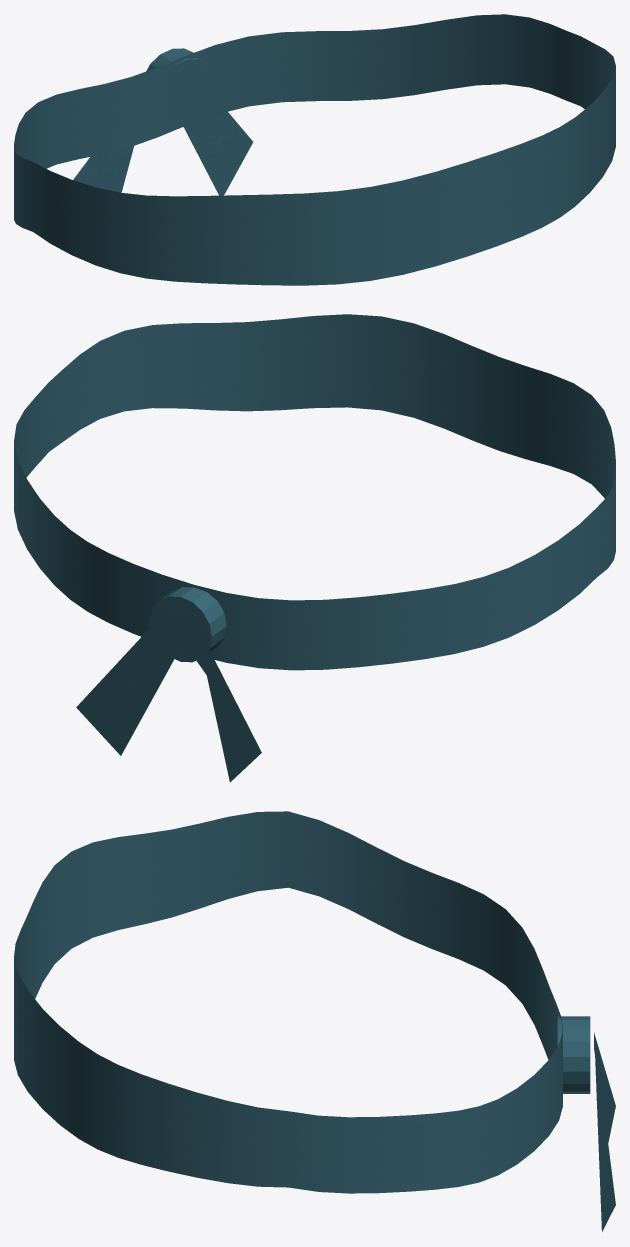
The model's file is reference_bandana.gltf.
3 renders of one model, top to bottom at view 1: azimuth 30°, elevation 25°; view 2: azimuth 150°, elevation 25°; view 3: azimuth 270°, elevation 25°, orthographic. The views are drawn at different scales.
Visible parts, largest first — view 1: Bandana; view 2: Bandana; view 3: Bandana.
Boxes of the visible parts, bbox=[...] form: Bandana: bbox=[14, 14, 615, 285]; Bandana: bbox=[14, 314, 615, 782]; Bandana: bbox=[14, 811, 615, 1231].
Bounding box in the file's own units: 0.442 × 0.1866 × 0.386.
1 material, 1 textured.
